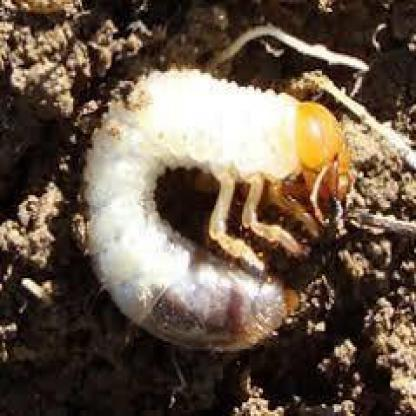root grubs: (83, 70, 346, 353)
